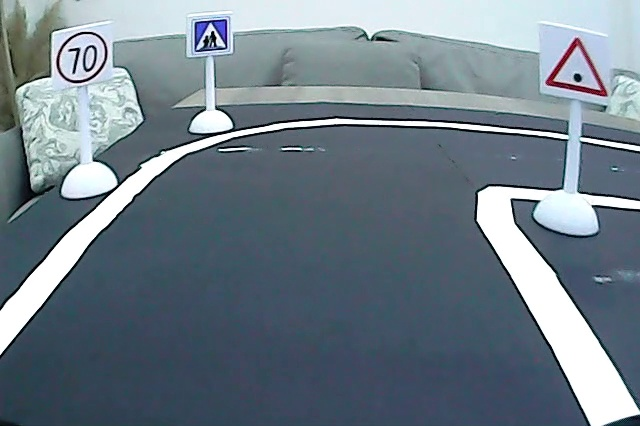green light: (543, 32, 611, 100)
school crossing: (190, 16, 231, 54)
speed limit 70: (53, 29, 110, 87)
